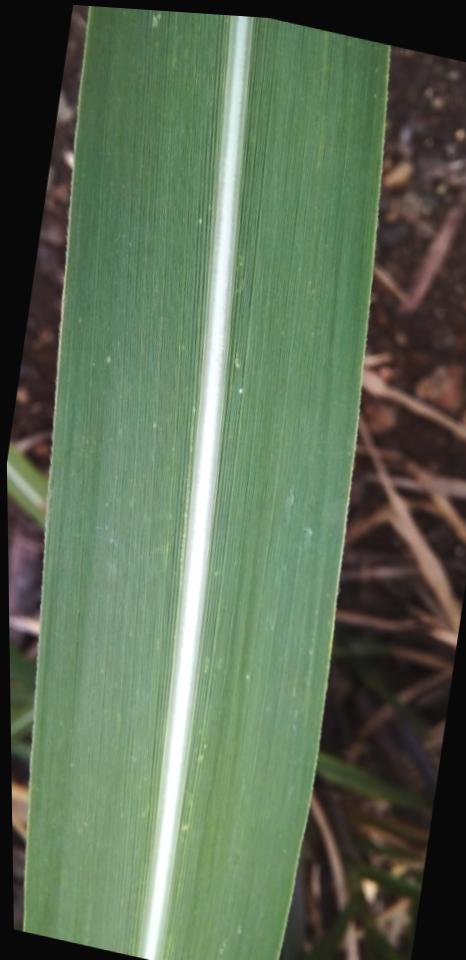Healthy: (25, 6, 389, 960)
